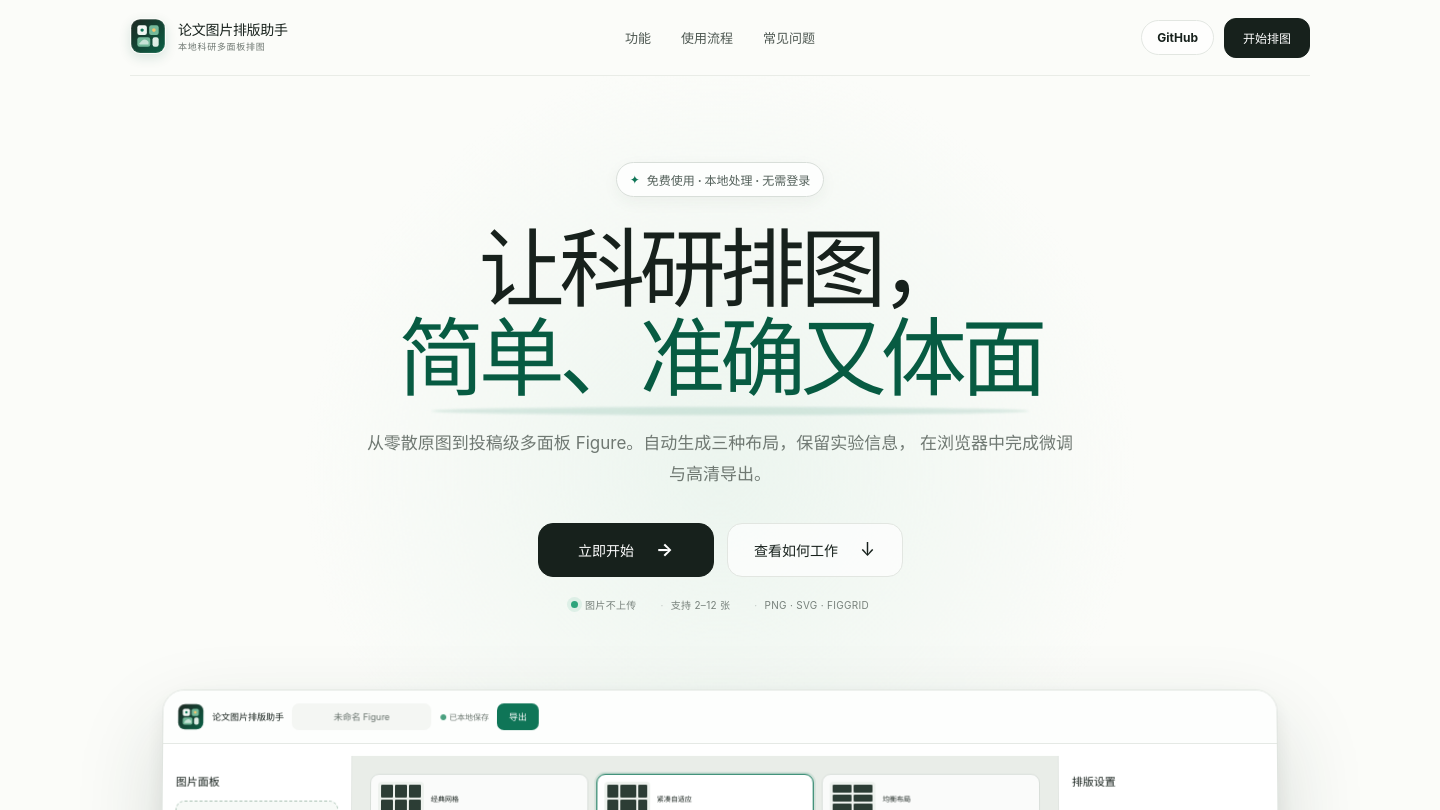
Test: 论文图片排版助手 › opens the project center from the landing page and creates a project
Check: the heading "让科研排图，简单、准确又体面" is shown, box [398,223,1042,408]
Click the button "立即开始 →": click(626, 550) [538,523,714,577]
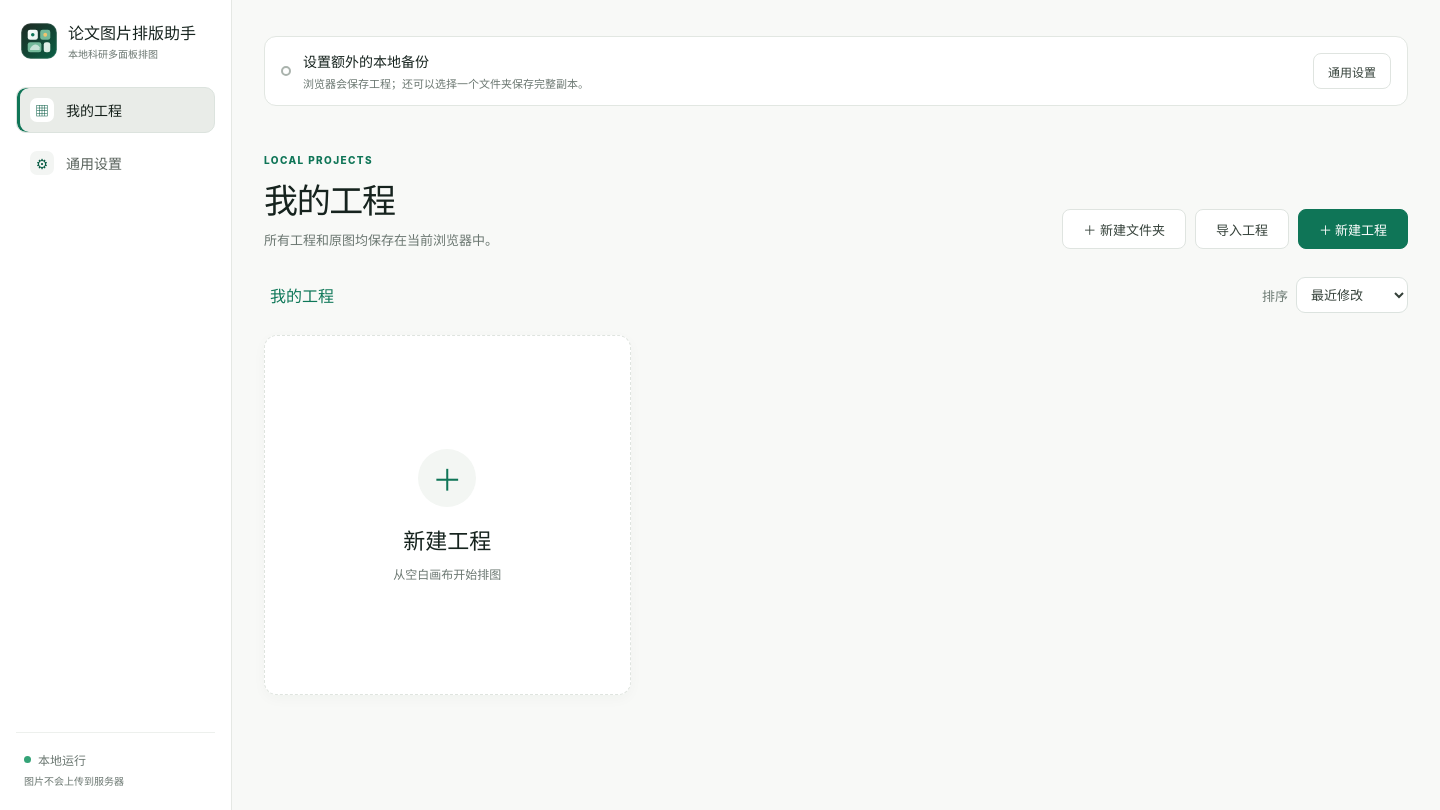
Check: the heading "我的工程" is shown, box [264,183,395,220]
Click the button "＋ 新建工程 从空白画布开始排图": click(447, 478) [264,335,631,695]
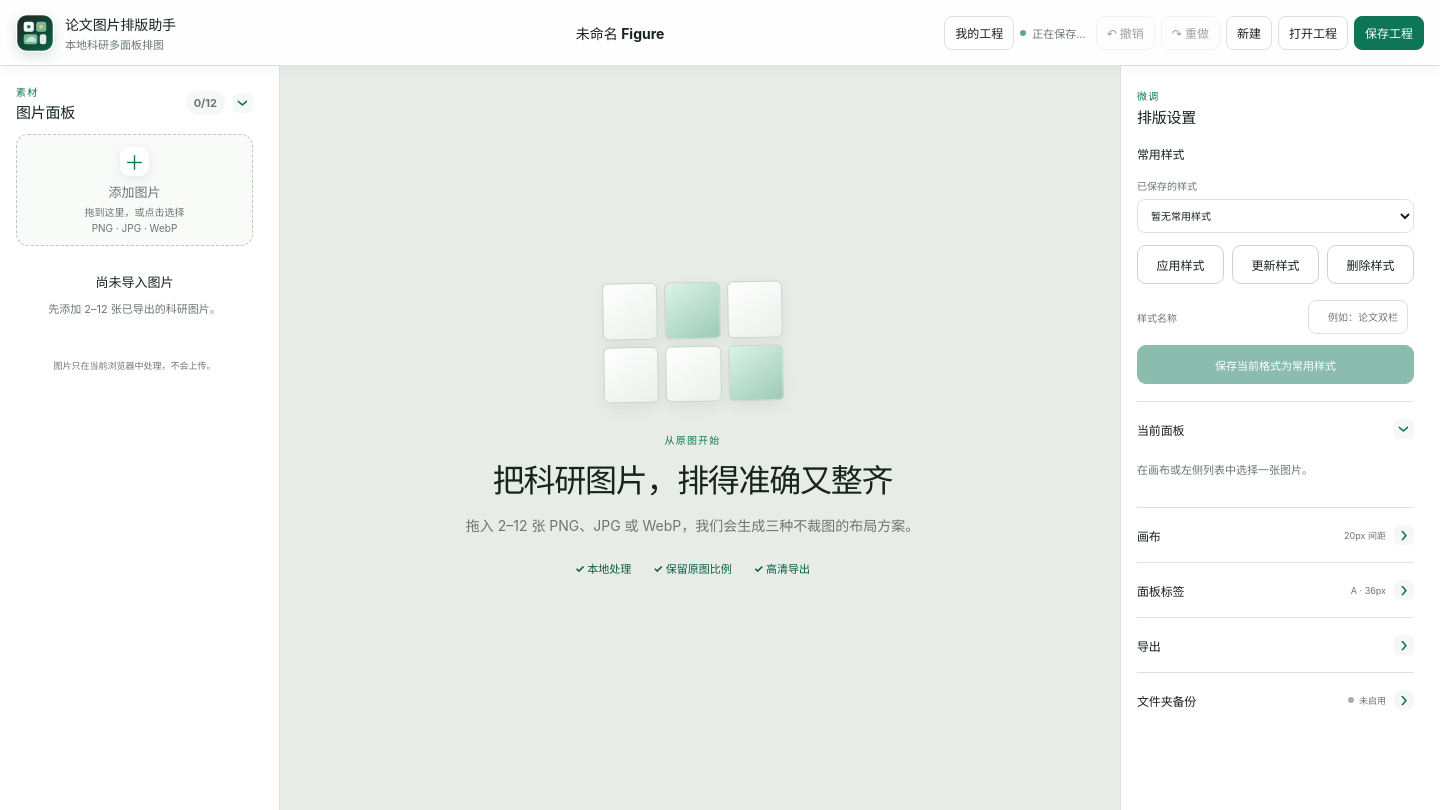
Check: the element with test id "image-input" is shown, box [16,134,253,372]
